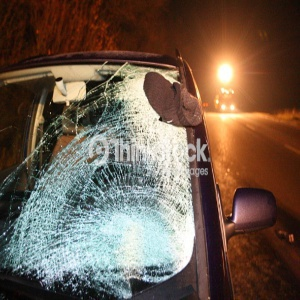front_windshield_glass: (5, 94, 140, 273)
